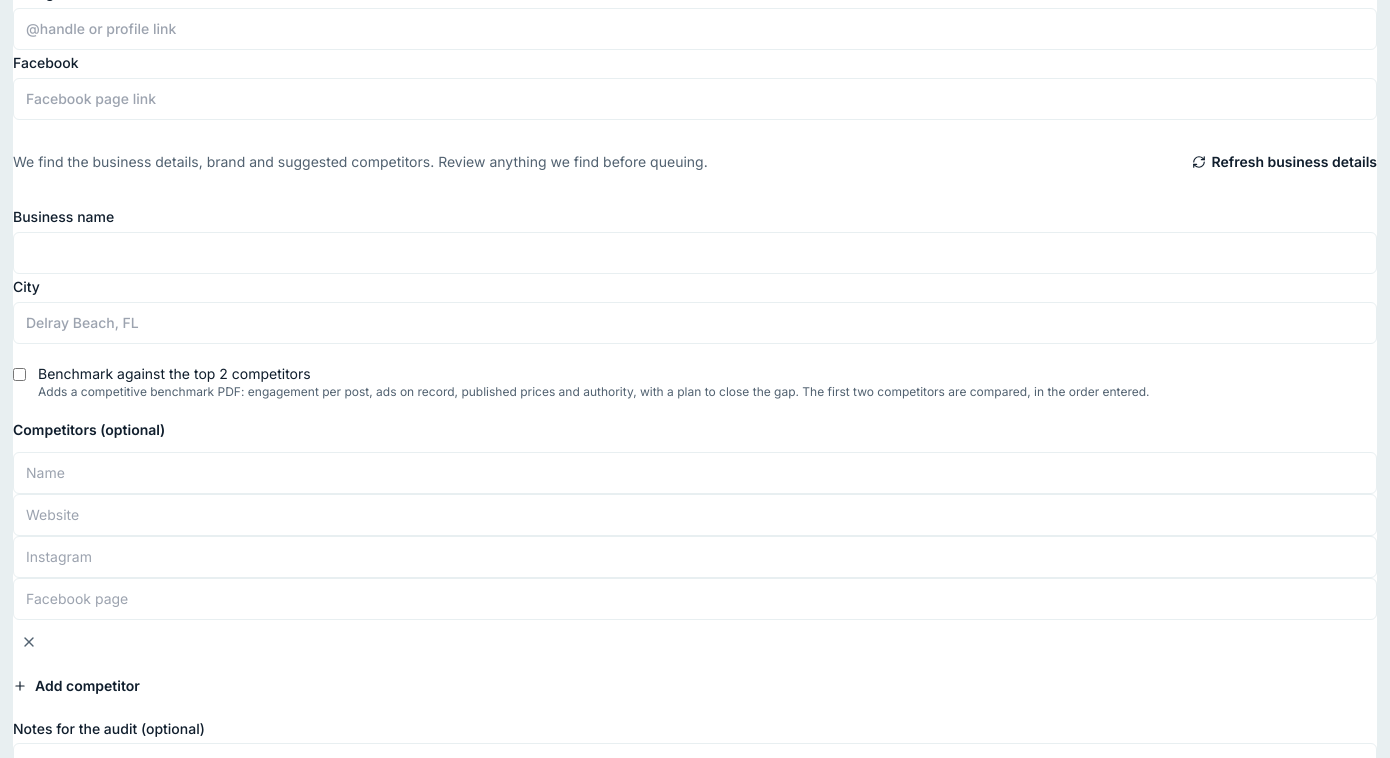
Test case: GroundswellAudits admin screen › queues a competitor benchmark with two labelled competitor rows
This screenshot has width=1390, height=758.
Later steps or results of the test are not shown.
(page scrolled)
Click the checkbox labelled "Benchmark against the top 2 competitors": (20, 374) [13,368,26,380]
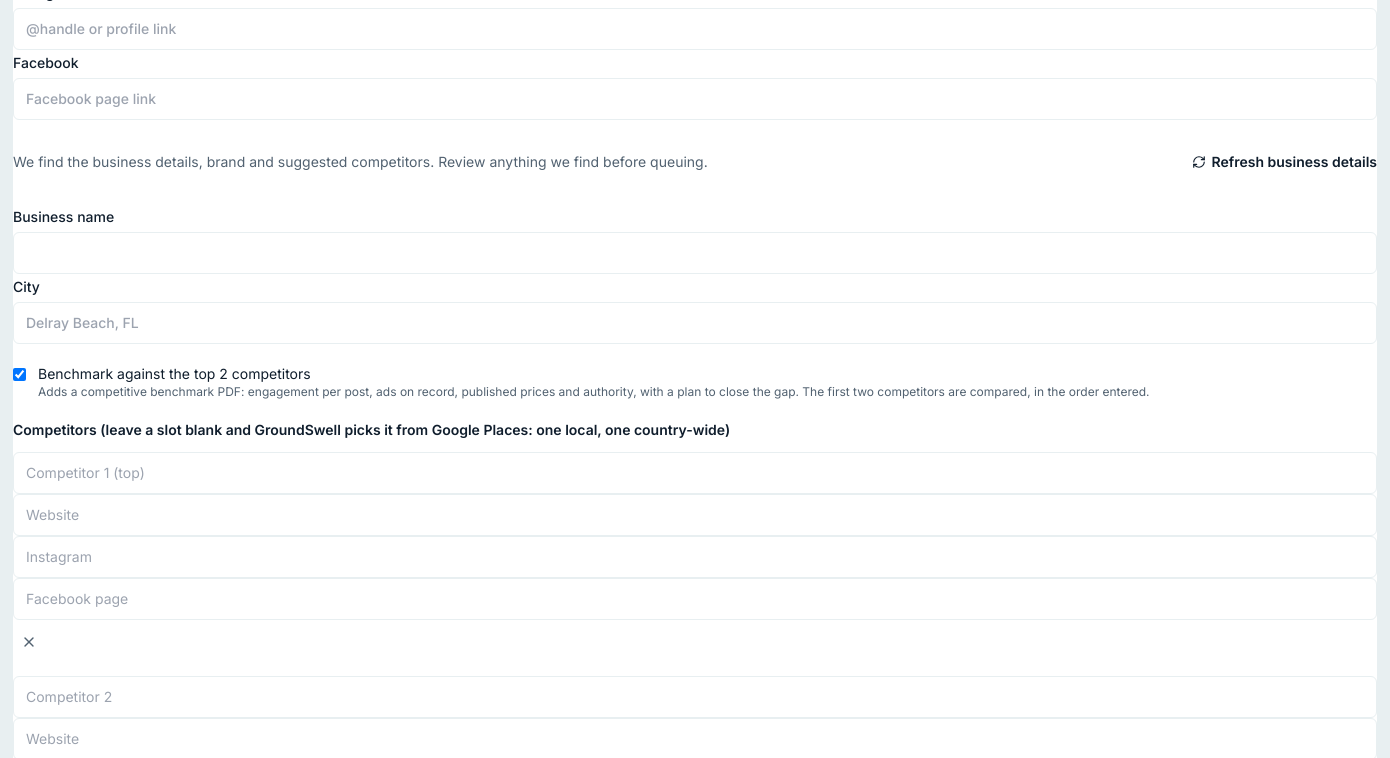
expect the field named "Competitor 1 (top) name" is shown: met, box [13,452,1377,494]
expect the field named "Competitor 2 name" is shown: met, box [13,676,1377,718]
